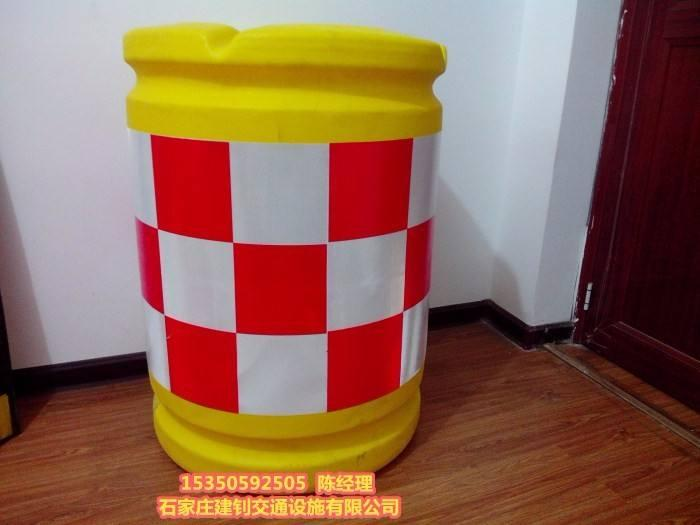sign: (111, 14, 453, 484)
